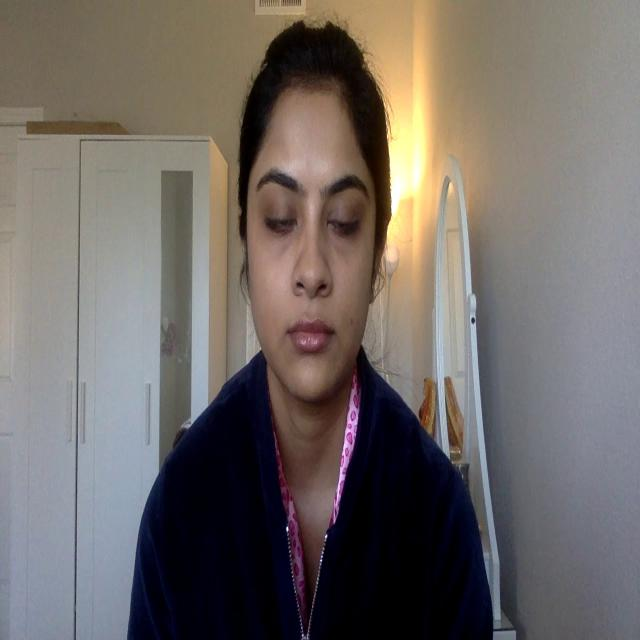Eyeclosed: (264, 206, 297, 241), (329, 209, 361, 241)
